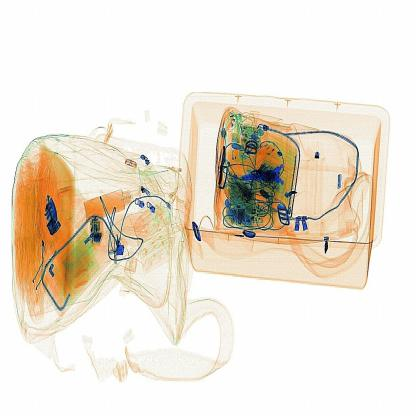gun: (241, 156, 301, 192)
